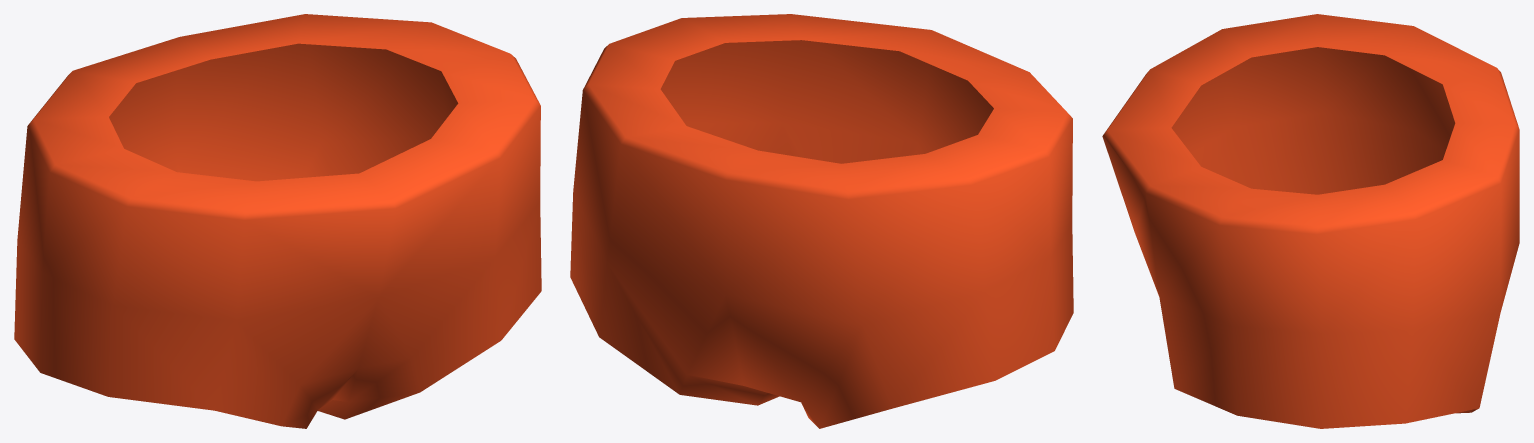
Rendered from Pants_Orange_005.glb.
The picture shows the model from 3 angles, left to right: view 1: azimuth 30°, elevation 25°; view 2: azimuth 150°, elevation 25°; view 3: azimuth 270°, elevation 25°; orthographic projection. The views are drawn at different scales.
Visible parts, largest first — view 1: Pants_Orange_005; view 2: Pants_Orange_005; view 3: Pants_Orange_005.
Boxes of the visible parts, x1,y1,x2,y2 form: Pants_Orange_005: [14, 14, 541, 428]; Pants_Orange_005: [570, 14, 1073, 428]; Pants_Orange_005: [1102, 14, 1519, 428].
Bounding box in the file's own units: 0.4529 × 0.2677 × 0.3561.
Materials: 1 (1 with a texture image).
